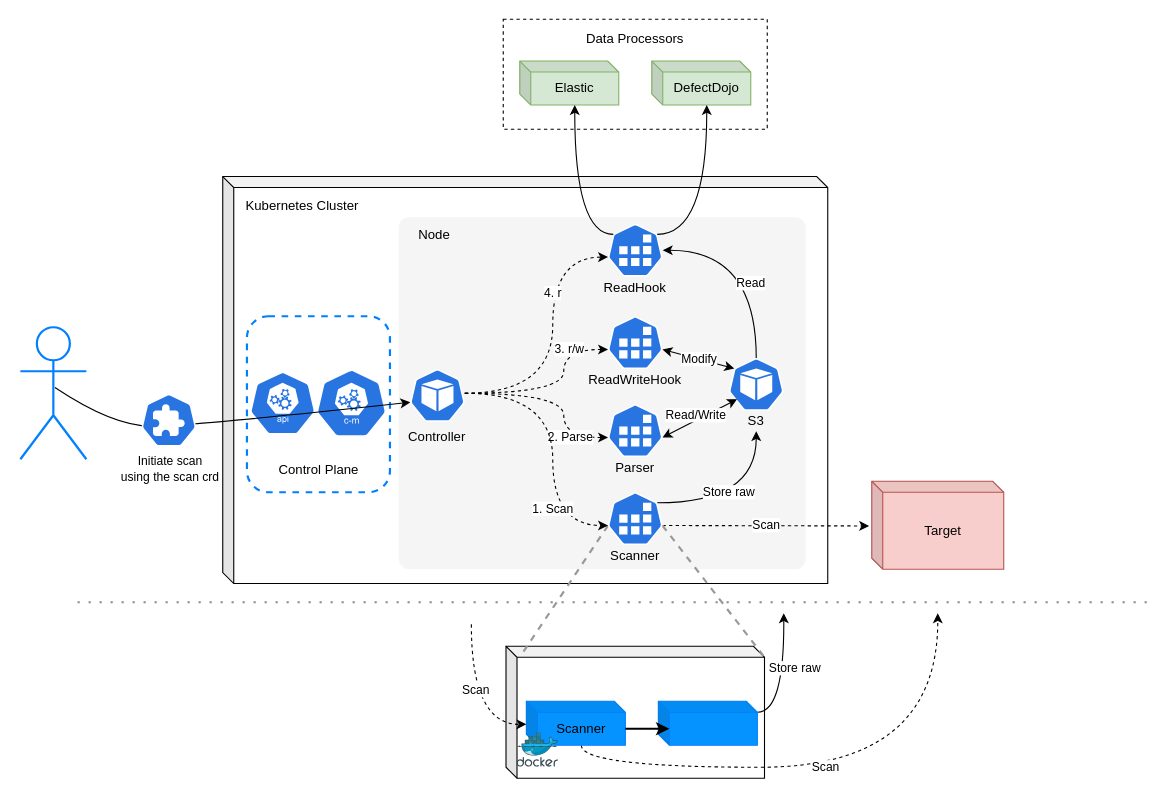
Some shapes in this 1167 by 798 pixel diagram are drawn without their labels. The box of each missing label's shape, as (x1, y1, x2, y2) in pixels:
Lurker: (657, 700, 757, 745)
Tester: (19, 326, 87, 460)
